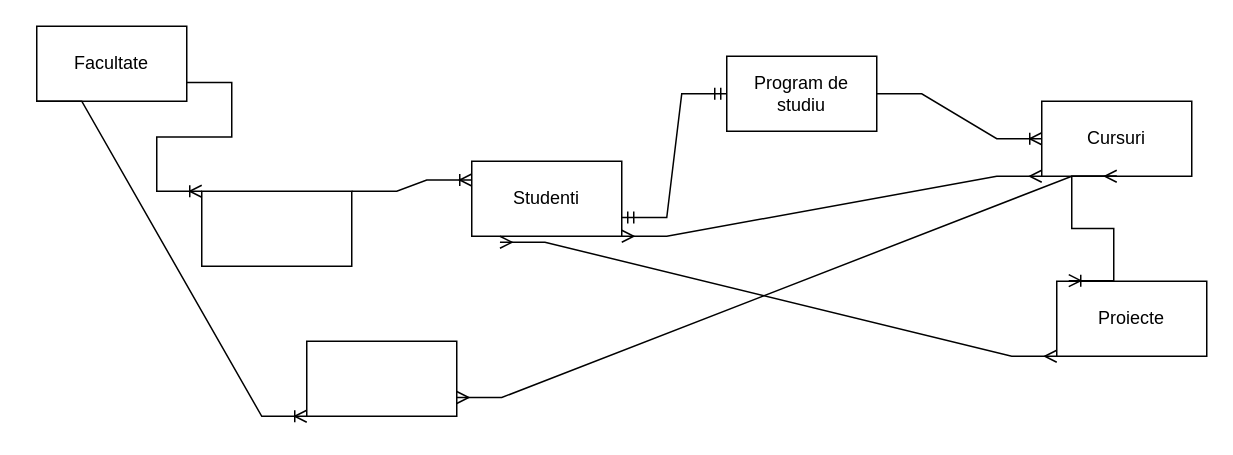
This 1233x455 diagram has some shape labels left out. Each missing label, with the box of its shape:
Inscrieri: (200, 190, 352, 266)
Profesori: (305, 340, 457, 416)
